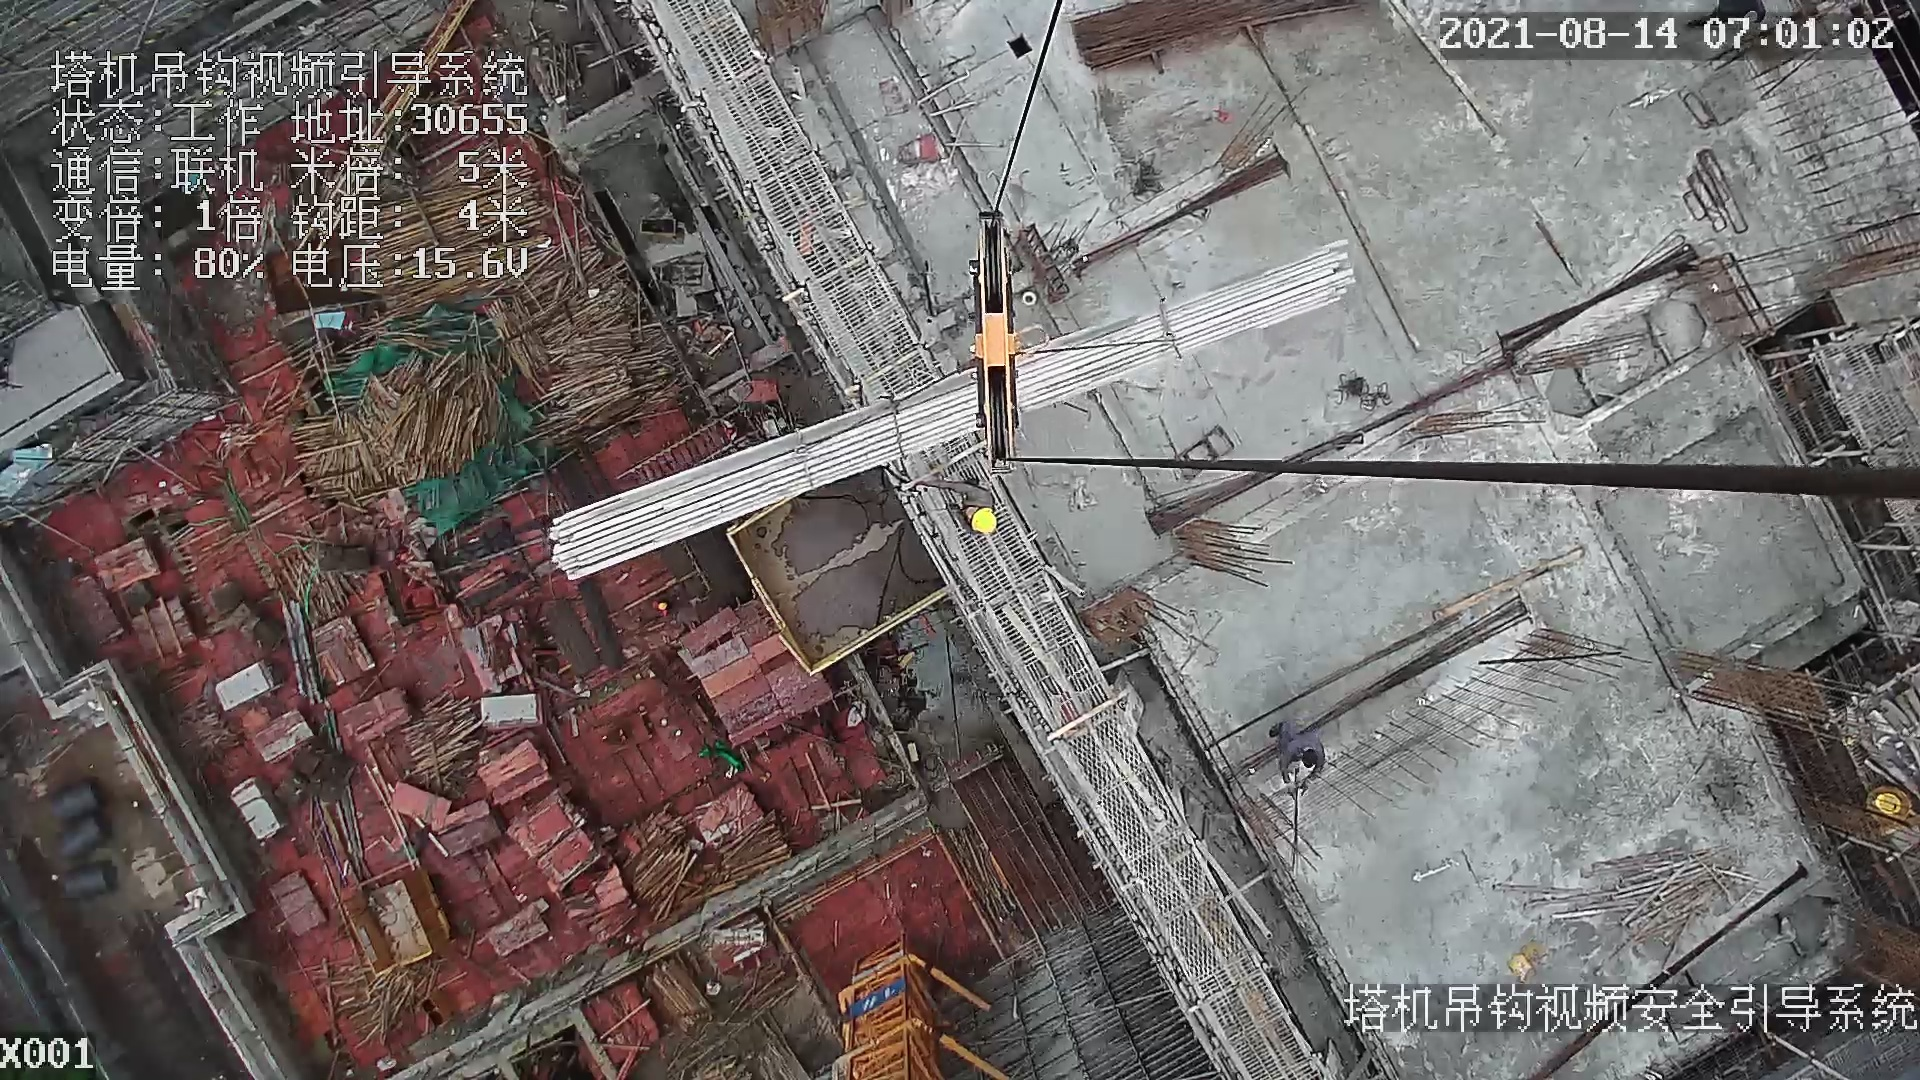helmet: (969, 503, 999, 536)
hook: (963, 206, 1032, 482)
person: (1270, 719, 1331, 796), (959, 495, 1021, 541)
